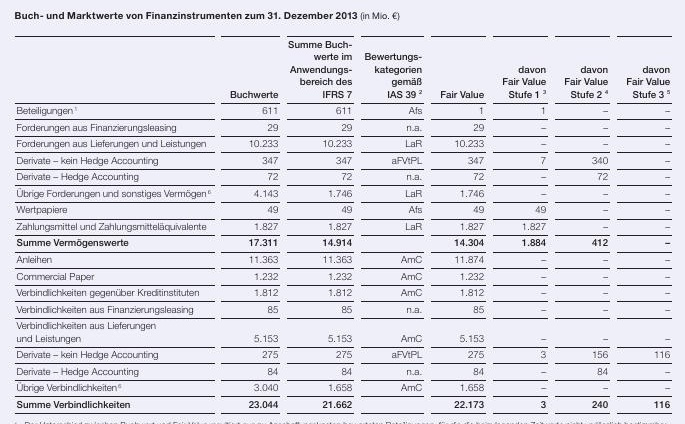table: (0, 0, 685, 424)
